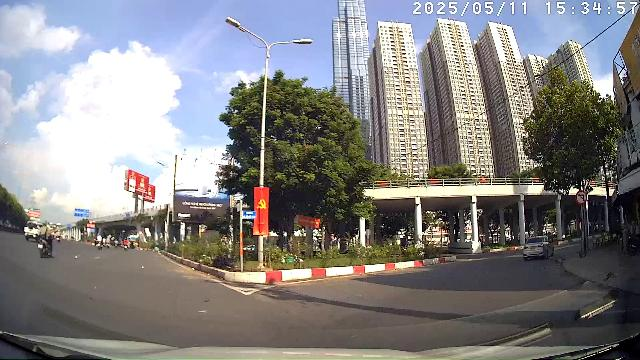123a-cam-re-trai: (575, 191, 587, 205)
